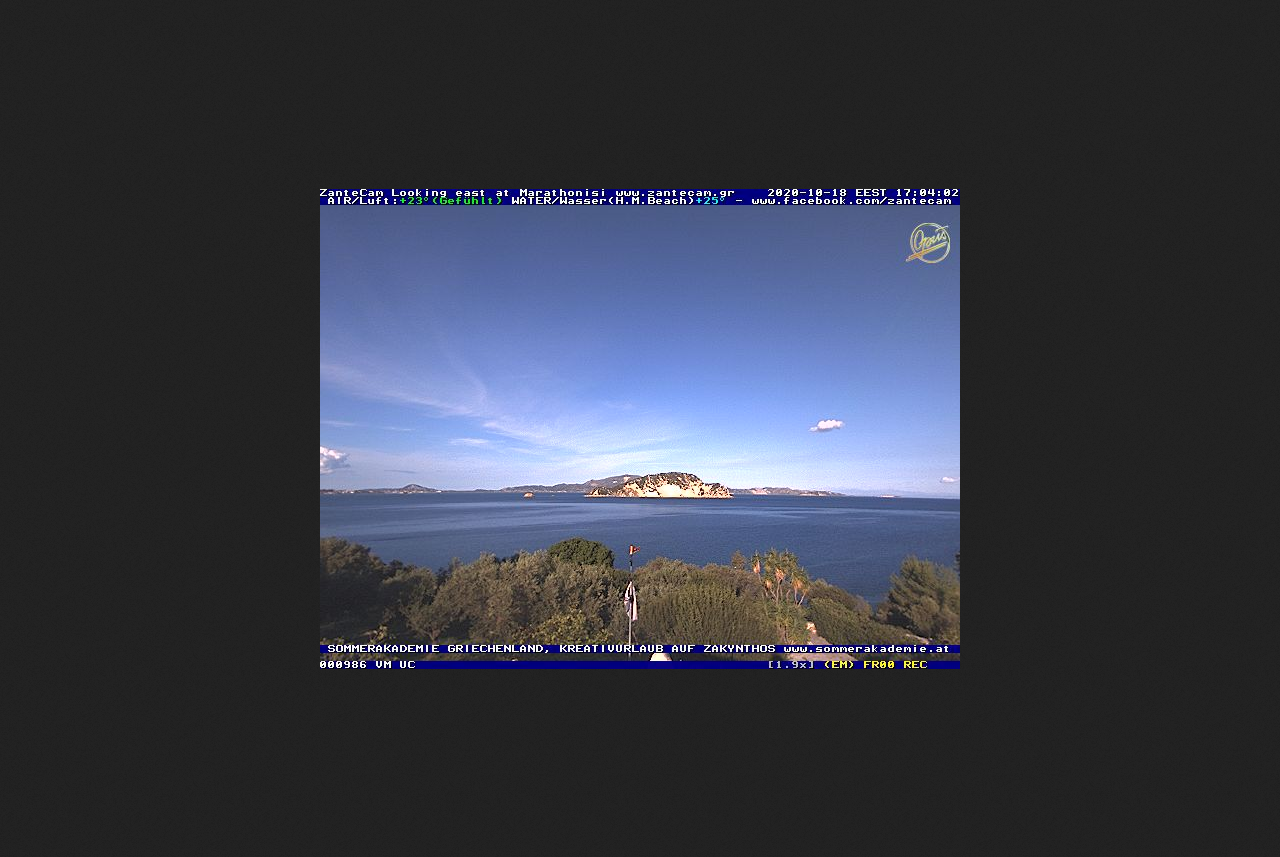no: (618, 570, 641, 622)
